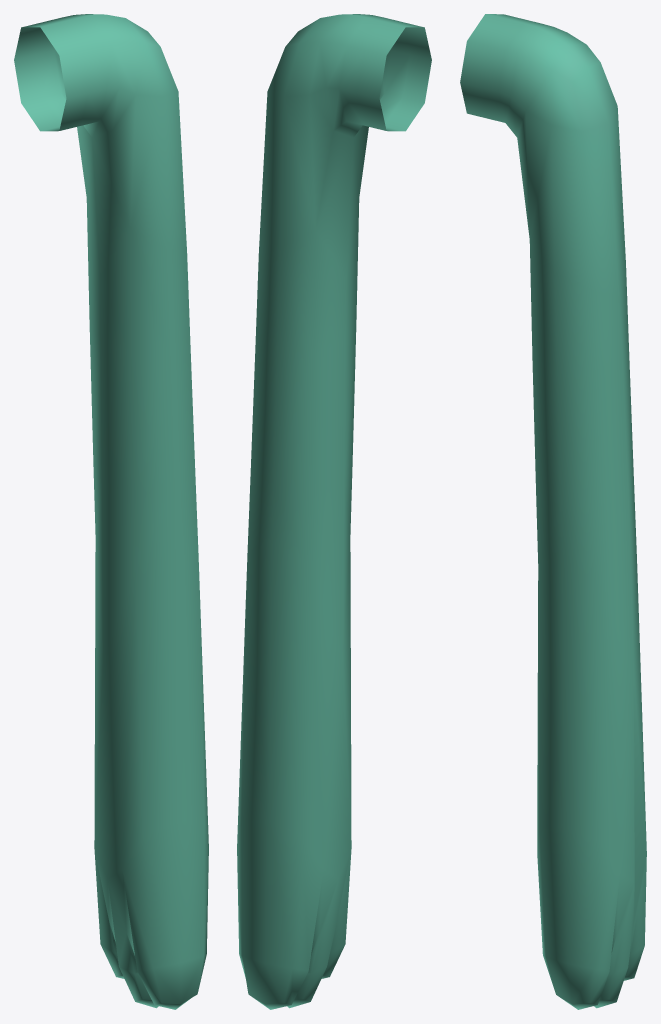
The model's file is BrazoIzquierdoBMO_obj.obj.
3 renders of one model, left to right at view 1: azimuth 30°, elevation 25°; view 2: azimuth 150°, elevation 25°; view 3: azimuth 330°, elevation 25°, orthographic. The views are drawn at different scales.
Visible parts, largest first — view 1: Brazo_Izquierdo; view 2: Brazo_Izquierdo; view 3: Brazo_Izquierdo.
Boxes of the visible parts, x1,y1,x2,y2 form: Brazo_Izquierdo: [14, 14, 208, 1009]; Brazo_Izquierdo: [237, 14, 431, 1009]; Brazo_Izquierdo: [460, 14, 646, 1009].
Bounding box in the file's own units: 0.1339 × 0.828 × 0.0814.
